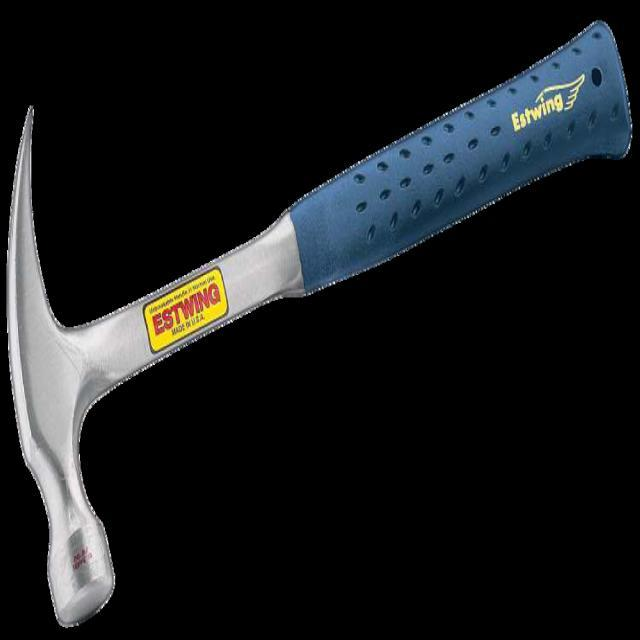hammer: (5, 9, 634, 636)
